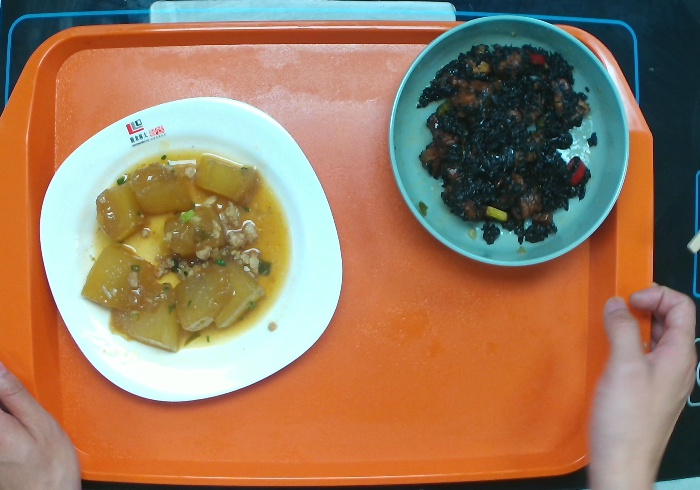ZNLD-Qing_Hua_Yuan_Wan: (377, 9, 636, 274)
ZNLD-Yuan_Jiao_Pan: (34, 94, 347, 405)
